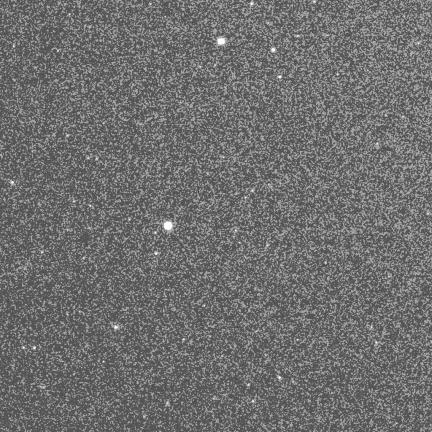blob: (164, 222, 172, 230), (218, 38, 226, 45), (271, 47, 276, 53), (33, 346, 37, 351), (278, 75, 283, 79), (114, 325, 118, 329), (155, 252, 158, 256), (251, 2, 253, 5)
